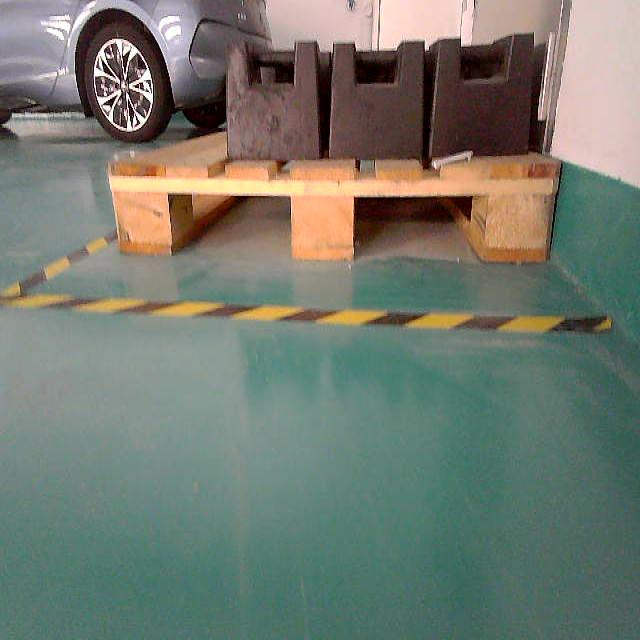euro: (110, 136, 562, 265)
